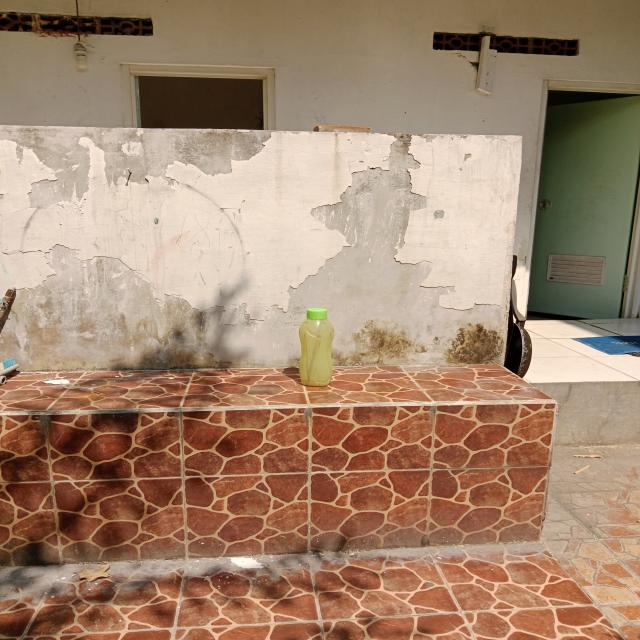botol_minum: (293, 300, 343, 390)
